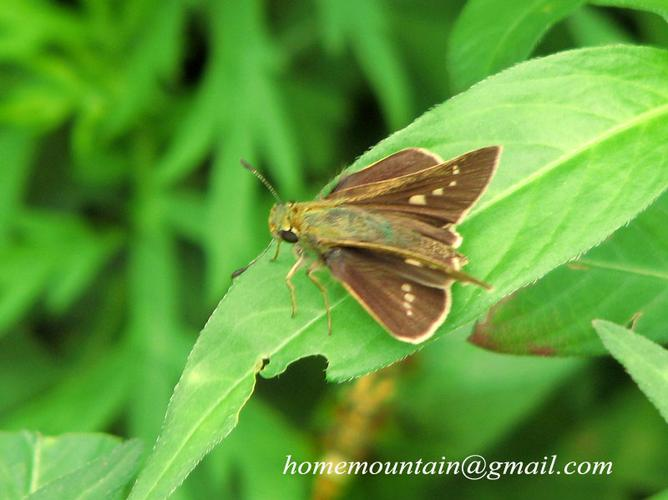Hesperiidae: (232, 131, 510, 348)
